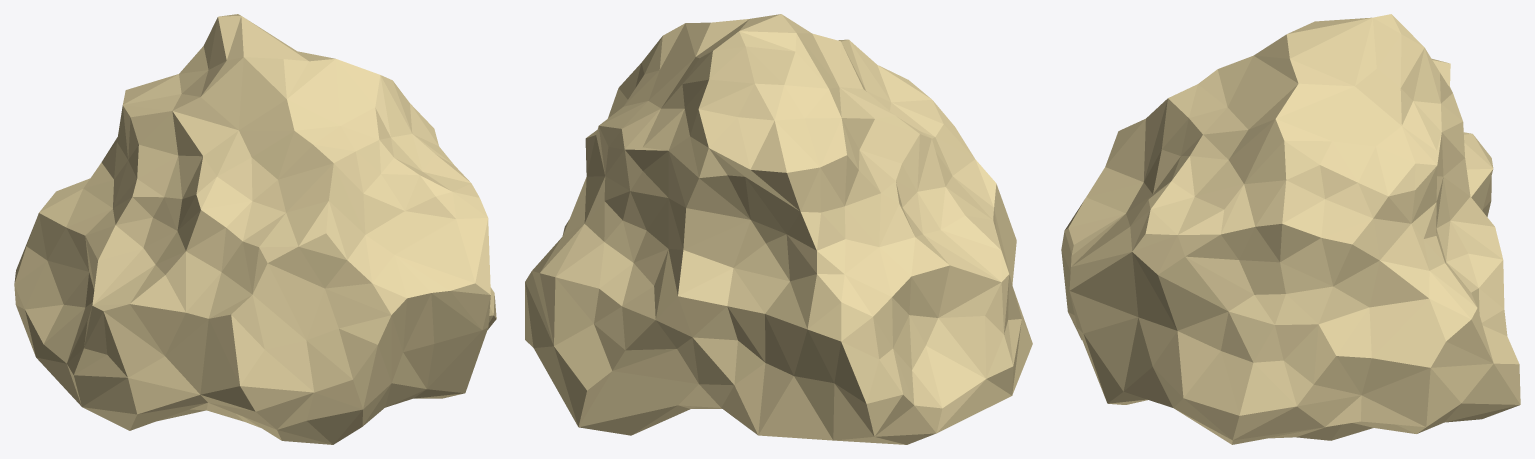
Rendered from Asteroid (4).fbx.
The picture shows the model from 3 angles, left to right: view 1: azimuth 30°, elevation 25°; view 2: azimuth 150°, elevation 25°; view 3: azimuth 270°, elevation 25°; orthographic projection. The views are drawn at different scales.
Visible parts, largest first — view 1: Asteroid131; view 2: Asteroid131; view 3: Asteroid131.
Boxes of the visible parts, x1=… form: Asteroid131: x1=14, y1=14, x2=496, y2=444; Asteroid131: x1=525, y1=14, x2=1032, y2=444; Asteroid131: x1=1061, y1=14, x2=1520, y2=444.
Bounding box in the file's own units: 294 × 248 × 274.
